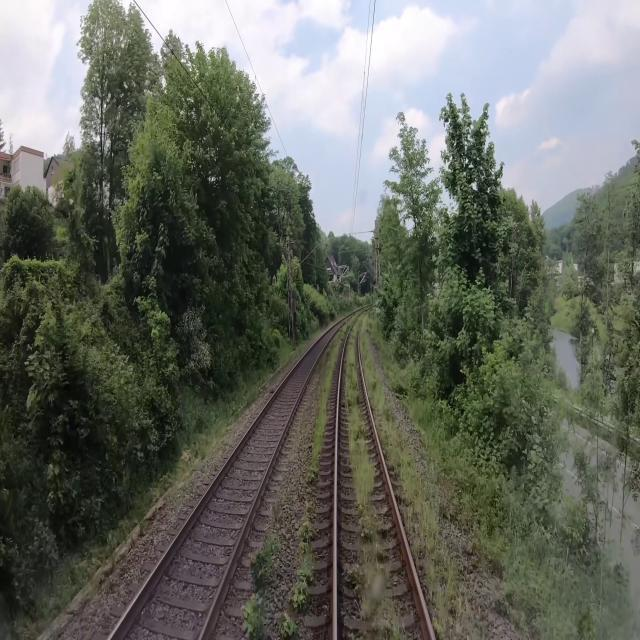Plant: (360, 311, 469, 639), (345, 307, 388, 620), (306, 311, 361, 486), (287, 518, 316, 611), (250, 529, 280, 590), (241, 595, 266, 639), (275, 612, 298, 639), (388, 618, 408, 639)
